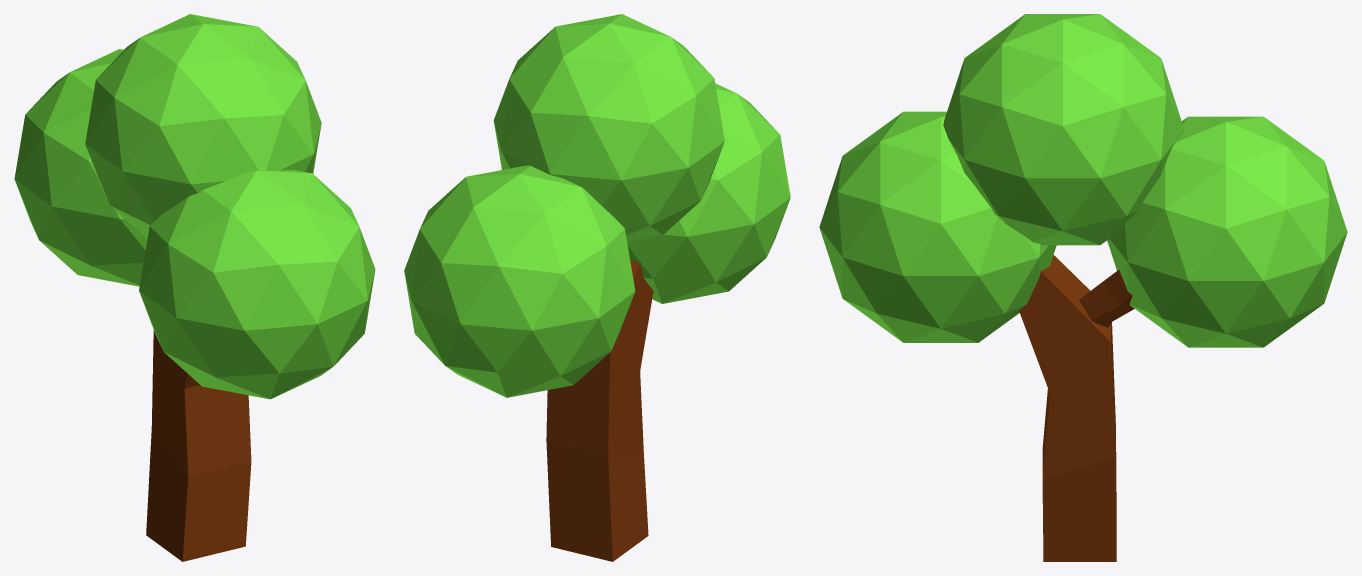
File: repairedrealtree.fbx
3 renders of one model, left to right at view 1: azimuth 30°, elevation 25°; view 2: azimuth 150°, elevation 25°; view 3: azimuth 270°, elevation 25°, orthographic. The views are drawn at different scales.
Visible parts, largest first — view 1: Cube; view 2: Cube; view 3: Cube.
Boxes of the visible parts, bbox=[...] form: Cube: bbox=[14, 14, 375, 561]; Cube: bbox=[404, 14, 790, 561]; Cube: bbox=[819, 14, 1347, 561].
Size of the model in its own units: 685 by 1584 by 1440.
